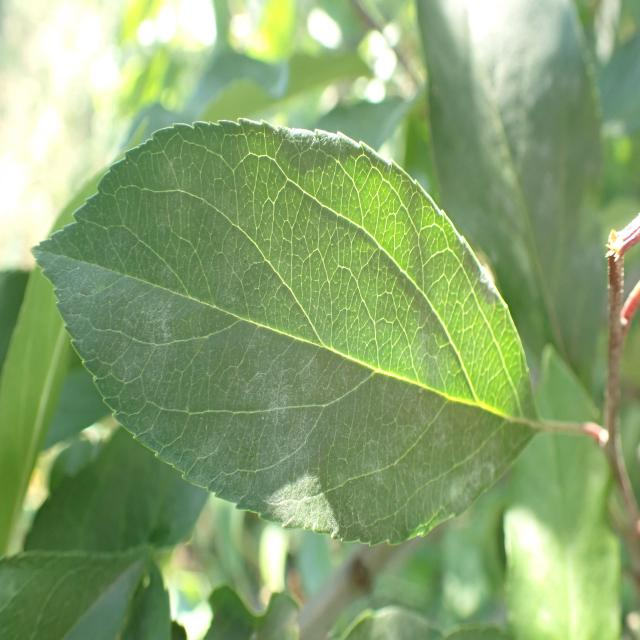Powdery_mildew: (24, 101, 543, 557)
